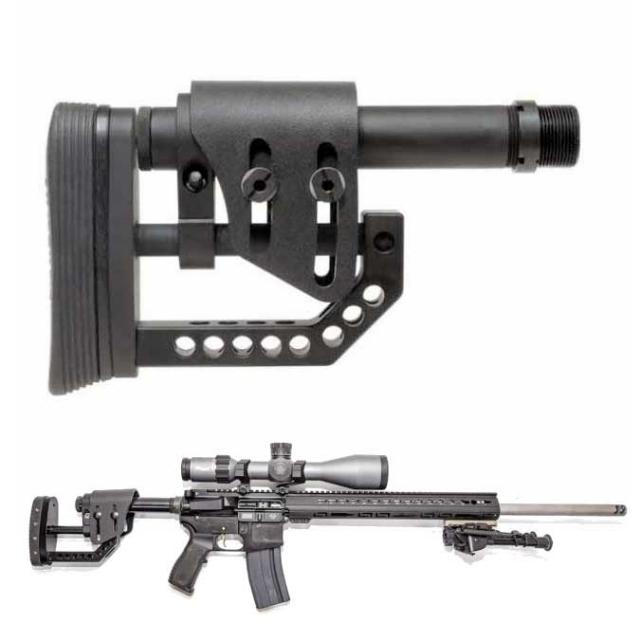Rifle: (24, 443, 627, 609)
